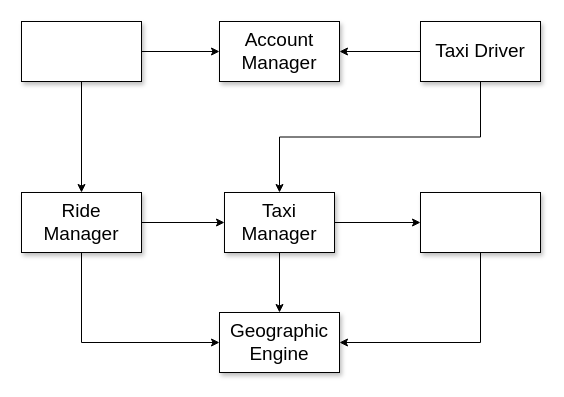
The diagram is 564 pixels wide and 397 high, and some of its shapes have lost their labels. Each missing label, with the centre of its shape:
"Passenger" goes at (82,52).
"Queue Manager" goes at (481,224).
